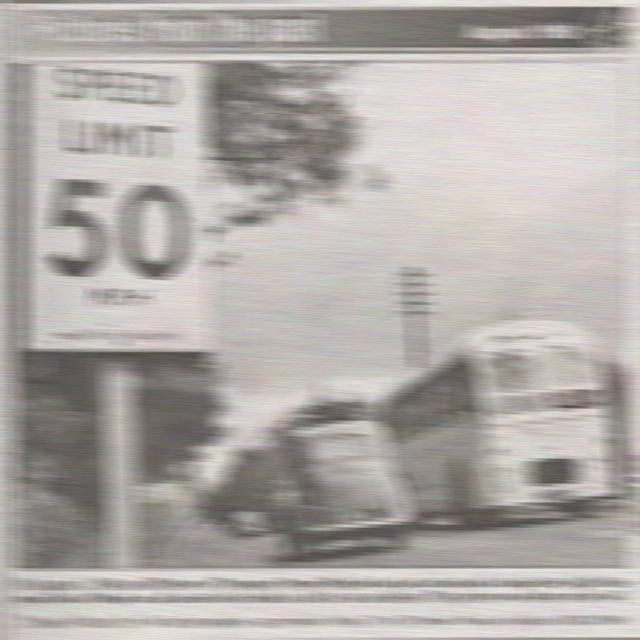speedLimit50: (22, 59, 219, 354)
